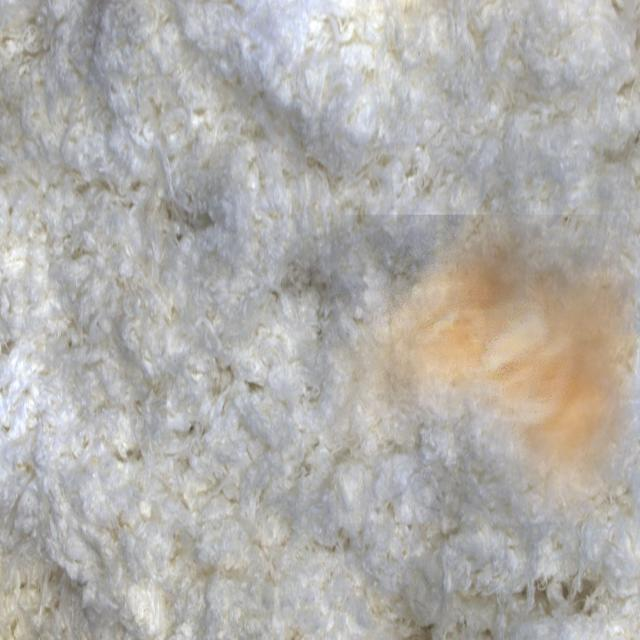dust: (330, 215, 635, 523)
